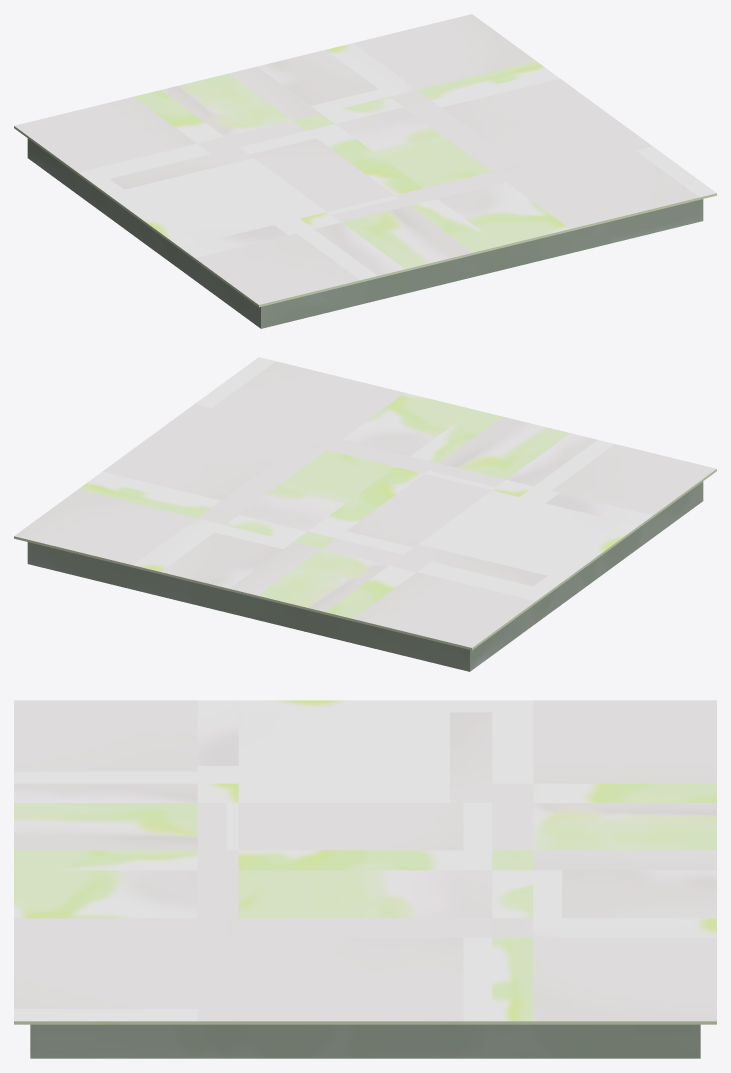
Rendered from escola12.fbx.
3 views of the same model, one above another, from view 1: azimuth 30°, elevation 25°; view 2: azimuth 150°, elevation 25°; view 3: azimuth 270°, elevation 25° (orthographic). The views are drawn at different scales.
Parts seen in each view (by area): view 1: teto, base; view 2: teto, base; view 3: teto, base.
Boxes of the visible parts, x1,y1,x2,y2 form: teto: (14,14,716,307); base: (27,138,703,328); teto: (14,357,716,650); base: (27,481,703,671); teto: (14,700,716,1024); base: (30,1024,700,1058).
Size of the model in its own units: 7251 by 454 by 6712.
3 materials, 3 textured.
